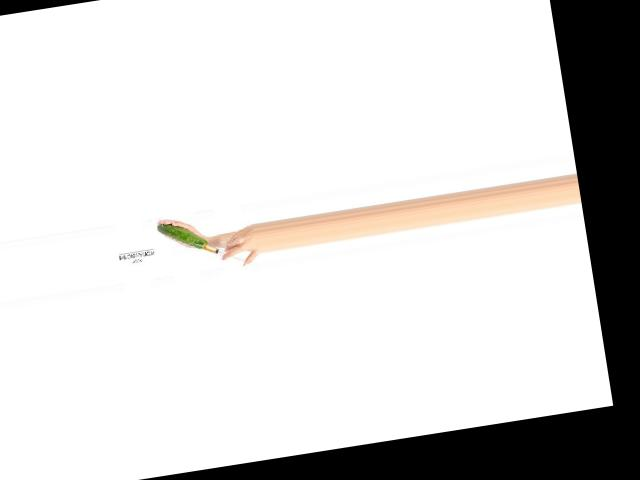cucumber: (157, 217, 208, 255)
